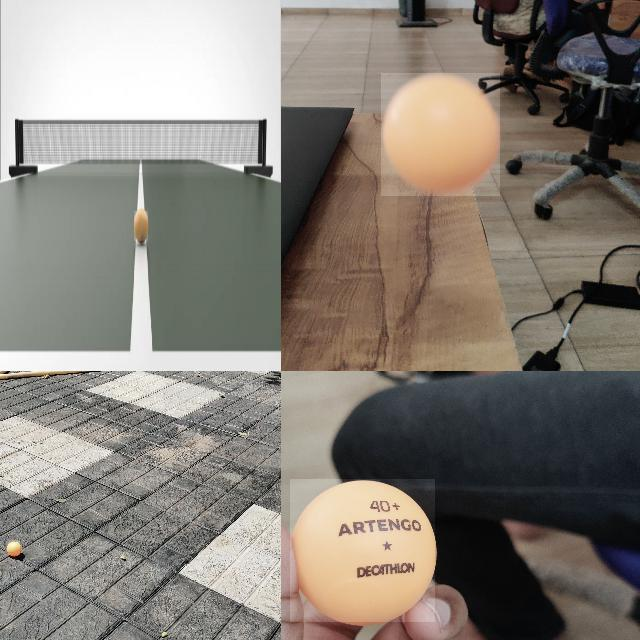ping-pong-ball: (290, 479, 436, 623), (381, 73, 501, 197), (134, 211, 148, 242), (7, 540, 21, 556)
